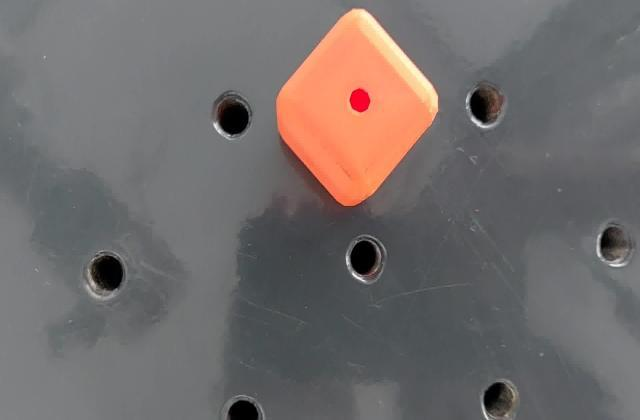cube: (272, 6, 441, 212)
